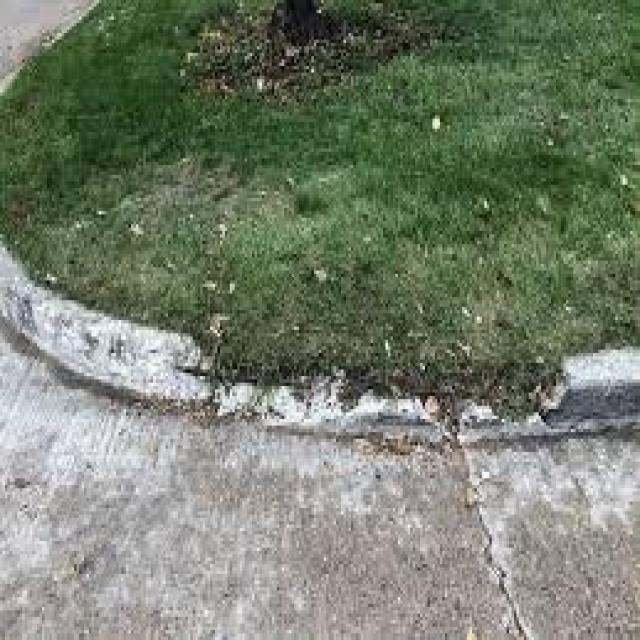curb: (1, 274, 353, 363), (373, 349, 640, 446)
